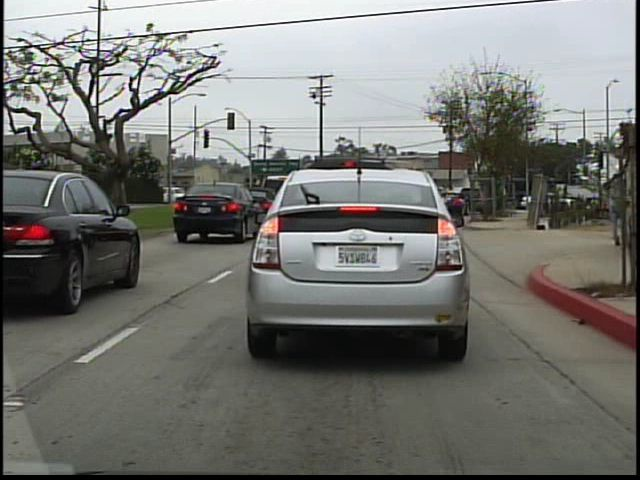person: (605, 159, 626, 247)
